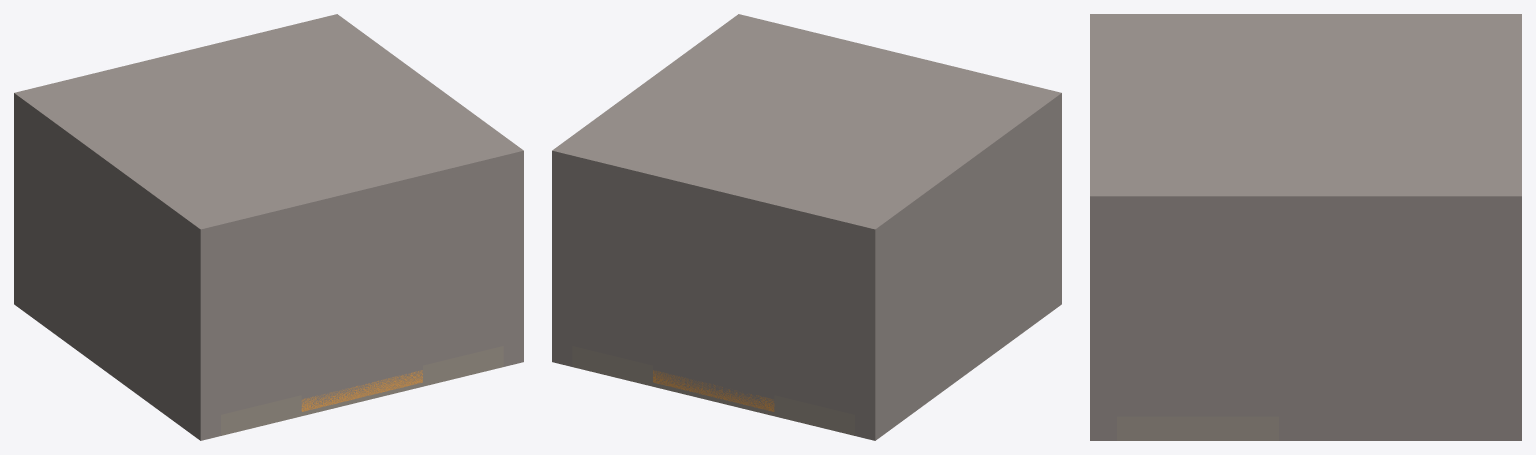
File: river-mirror.glb
3 renders of one model, left to right at view 1: azimuth 30°, elevation 25°; view 2: azimuth 150°, elevation 25°; view 3: azimuth 270°, elevation 25°, orthographic. The views are drawn at different scales.
Parts seen in each view (by area): view 1: rock_8, plug_river_south, rock_1, rock_6, rock_4, plug_river_south.001, cave-floor_2, lava_1, cave-floor_3, cave-floor_4, cave-floor_6; view 2: rock_8, plug_river_north, rock_1, rock_5, rock_2, plug_river_north.001, cave-floor_1, cave-floor_2, lava_1, cave-floor_6; view 3: rock_8, rock_2, plug_east, rock_7, rock_4, cave-floor_5.
Boxes of the visible parts, x1,y1,x2,y2 form: rock_8: [14, 14, 523, 250]; plug_river_south: [221, 198, 503, 414]; rock_1: [14, 114, 220, 440]; rock_6: [221, 177, 503, 266]; rock_4: [503, 172, 523, 366]; plug_river_south.001: [301, 365, 422, 411]; cave-floor_2: [423, 346, 503, 386]; lava_1: [301, 370, 422, 411]; cave-floor_3: [261, 395, 301, 425]; cave-floor_4: [221, 405, 261, 435]; cave-floor_6: [301, 382, 422, 415]; rock_8: [552, 14, 1061, 250]; plug_river_north: [572, 198, 854, 414]; rock_1: [855, 114, 1061, 440]; rock_5: [572, 177, 854, 266]; rock_2: [552, 172, 572, 366]; plug_river_north.001: [653, 365, 774, 410]; cave-floor_1: [774, 395, 854, 435]; cave-floor_2: [572, 346, 652, 386]; lava_1: [653, 370, 774, 411]; cave-floor_6: [653, 382, 774, 415]; rock_8: [1090, 14, 1521, 220]; rock_2: [1279, 221, 1521, 440]; plug_east: [1117, 269, 1278, 416]; rock_7: [1117, 221, 1278, 269]; rock_4: [1090, 221, 1116, 440]; cave-floor_5: [1117, 416, 1278, 440].
Bounding box in the file's own units: 8 × 5 × 8.
